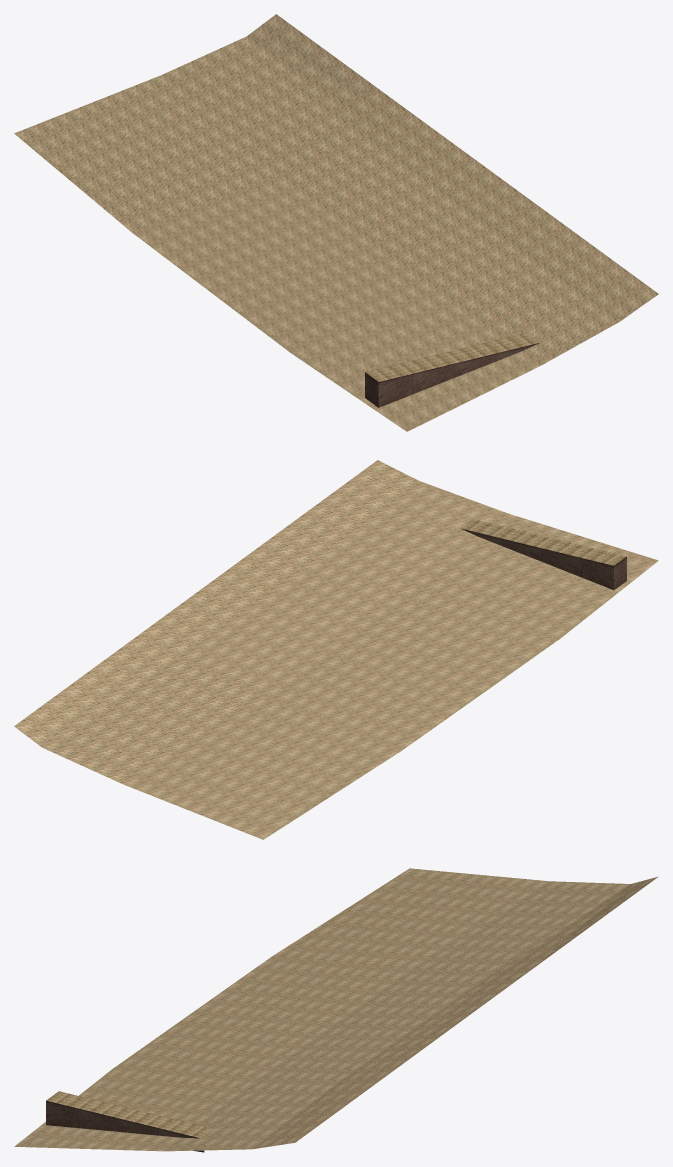
The model's file is beach1spt_las2.obj.
The picture shows the model from 3 angles, top to bottom: view 1: azimuth 30°, elevation 25°; view 2: azimuth 150°, elevation 25°; view 3: azimuth 330°, elevation 25°; orthographic projection. The views are drawn at different scales.
Visible parts, largest first — view 1: Beach1spt_las2; view 2: Beach1spt_las2; view 3: Beach1spt_las2.
Part boxes in pixels (x1=…): Beach1spt_las2: x1=14, y1=14, x2=658, y2=431; Beach1spt_las2: x1=14, y1=460, x2=658, y2=839; Beach1spt_las2: x1=14, y1=868, x2=658, y2=1152.
Bounding box in the file's own units: 77.63 × 15.09 × 194.
